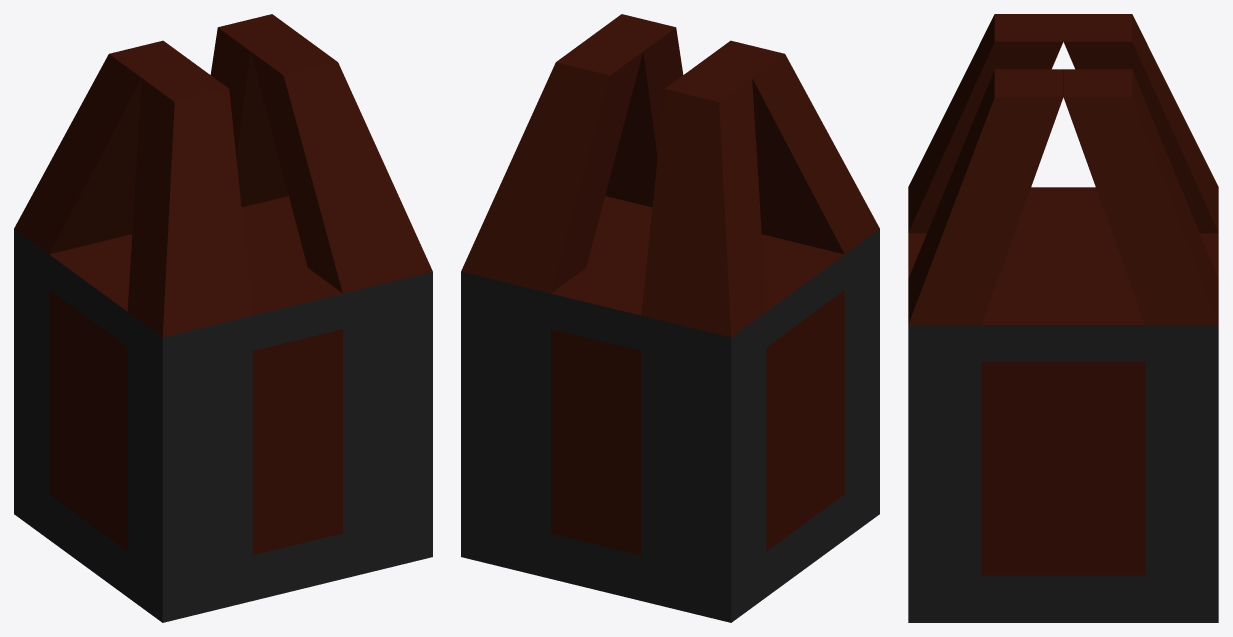
The model's file is trebuchet_counterweight.obj.
3 views of the same model, side by side, from view 1: azimuth 30°, elevation 25°; view 2: azimuth 150°, elevation 25°; view 3: azimuth 270°, elevation 25° (orthographic). The views are drawn at different scales.
Visible parts, largest first — view 1: trebuchet_counterweight; view 2: trebuchet_counterweight; view 3: trebuchet_counterweight.
Boxes of the visible parts, left/top/right/bottom form: trebuchet_counterweight: left=14, top=14, right=432, bottom=622; trebuchet_counterweight: left=461, top=14, right=879, bottom=622; trebuchet_counterweight: left=908, top=14, right=1218, bottom=622.
Bounding box in the file's own units: 0.2109 × 0.3562 × 0.201.
